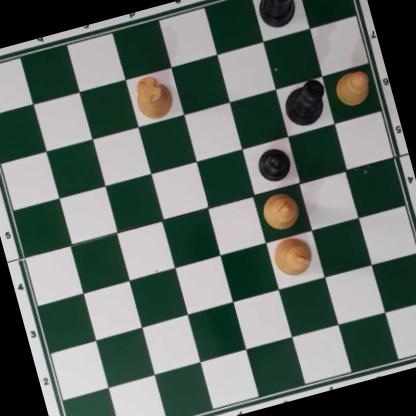black-king: (277, 76, 332, 129)
black-pawn: (254, 143, 294, 185)
black-rook: (250, 0, 305, 32)
white-bishop: (259, 188, 302, 233)
white-king: (267, 231, 317, 281)
white-pawn: (331, 66, 376, 109)
white-rook: (130, 72, 176, 123)
